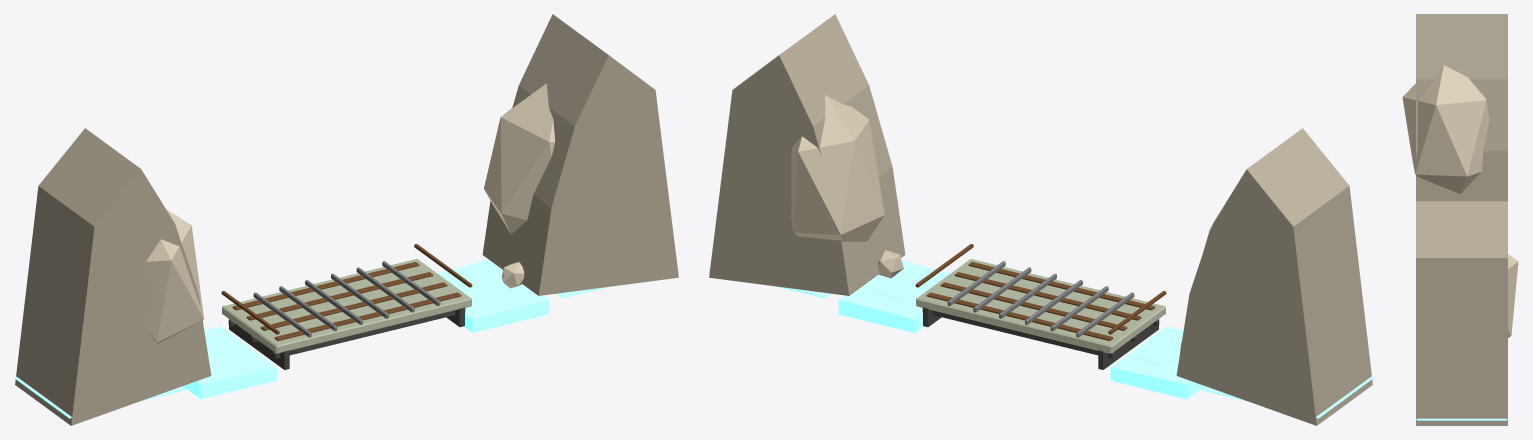
The model's file is flooded_ravine_platform.glb.
3 renders of one model, left to right at view 1: azimuth 30°, elevation 25°; view 2: azimuth 150°, elevation 25°; view 3: azimuth 270°, elevation 25°, orthographic. The views are drawn at different scales.
Visible parts, largest first — view 1: GEO_wall, GEO_wall_alt, GEO_accent, GEO_ground, GEO_wood, GEO_rail, GEO_iron; view 2: GEO_wall, GEO_wall_alt, GEO_accent, GEO_ground, GEO_wood, GEO_rail, GEO_iron; view 3: GEO_wall, GEO_wall_alt, GEO_accent.
Part boxes in pixels (bbox=[...]): GEO_wall: bbox=[15, 14, 678, 425]; GEO_wall_alt: bbox=[146, 83, 555, 343]; GEO_accent: bbox=[14, 259, 679, 418]; GEO_ground: bbox=[222, 259, 471, 353]; GEO_wood: bbox=[221, 244, 472, 340]; GEO_rail: bbox=[253, 261, 440, 337]; GEO_iron: bbox=[228, 307, 465, 369]; GEO_wall: bbox=[709, 14, 1372, 425]; GEO_wall_alt: bbox=[791, 95, 1211, 352]; GEO_accent: bbox=[708, 260, 1373, 418]; GEO_ground: bbox=[916, 259, 1165, 353]; GEO_wood: bbox=[915, 244, 1166, 340]; GEO_rail: bbox=[947, 261, 1134, 337]; GEO_iron: bbox=[922, 307, 1159, 369]; GEO_wall: bbox=[1416, 14, 1507, 425]; GEO_wall_alt: bbox=[1402, 65, 1518, 337]; GEO_accent: bbox=[1416, 418, 1507, 420].
Size of the model in its own units: 26.1 by 10.01 by 5.24.
